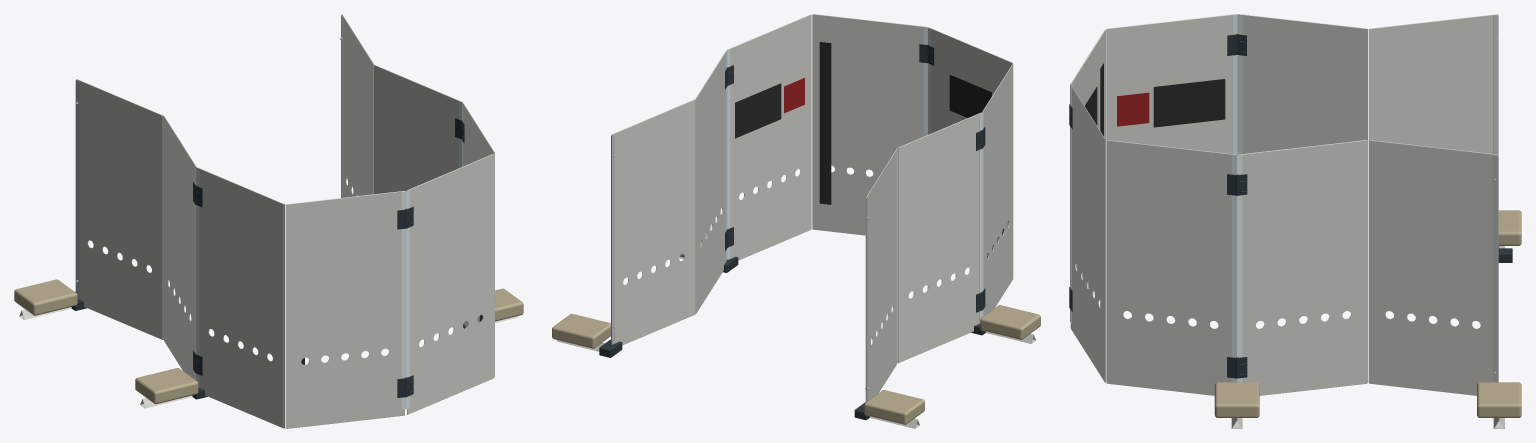
3 views of the same model, side by side, from view 1: azimuth 30°, elevation 25°; view 2: azimuth 150°, elevation 25°; view 3: azimuth 270°, elevation 25° (orthographic). The views are drawn at different scales.
Parts seen in each view (by area): view 1: P12 duo, left half head and side, P12 duo, left half side, P12 duo, right half head and side, P12 duo, right half side, Ballast bag, left end, Ballast bag, left side, Joint cover strip, centre mid, Edge stiffener channel, left end, Joint cover strip, left side mid, Ballast bag, right side; view 2: P12 duo, right half head and side, P12 duo, right half side, P12 duo, left half side, P12 duo, left half head and side, Print zone, release mark, right head, Print zone, do-not-pull words, right, Ballast bag, left side, Ballast bag, left end, Ballast bag, right end, Print zone, bed card, Edge stiffener channel, right end, Edge stiffener channel, left end (+4 smaller); view 3: P12 duo, right half side, P12 duo, right half head and side, P12 duo, left half side, P12 duo, left half head and side, Print zone, do-not-pull words, left, Joint cover strip, right side mid, Ballast bag, right side, Ballast bag, right end, Edge stiffener channel, right end, Joint cover strip, left side mid, Print zone, prohibition sign, left, Ballast bag, left end (+3 smaller).
Part boxes in pixels (x1,y1,x2,y2): P12 duo, left half head and side: (197,167,404,428); P12 duo, left half side: (76,79,196,379); P12 duo, right half head and side: (407,102,494,414); P12 duo, right half side: (341,14,461,197); Ballast bag, left end: (14,279,77,315); Ballast bag, left side: (135,368,198,404); Joint cover strip, centre mid: (401,227,409,377); Edge stiffener channel, left end: (75,80,79,298); Joint cover strip, left side mid: (194,204,199,354); Ballast bag, right side: (495,288,523,321); P12 duo, right half head and side: (727,14,926,260); P12 duo, right half side: (611,50,726,345); P12 duo, left half side: (866,113,981,400); P12 duo, left half head and side: (929,27,1013,315); Print zone, release mark, right head: (819,42,831,204); Print zone, do-not-pull words, right: (735,83,781,138); Ballast bag, left side: (980,305,1040,339); Ballast bag, left end: (864,390,924,424); Ballast bag, right end: (552,313,610,348); Print zone, bed card: (949,75,991,117); Edge stiffener channel, right end: (611,134,615,344); Edge stiffener channel, left end: (865,196,868,402); P12 duo, right half side: (1238,140,1497,395); P12 duo, right half head and side: (1070,85,1235,395); P12 duo, left half side: (1238,14,1497,153); P12 duo, left half head and side: (1070,14,1235,291); Print zone, do-not-pull words, left: (1153,79,1225,127); Joint cover strip, right side mid: (1232,195,1242,357); Ballast bag, right side: (1214,382,1259,417); Ballast bag, right end: (1477,382,1521,417); Edge stiffener channel, right end: (1492,155,1498,382); Joint cover strip, left side mid: (1232,55,1242,154); Print zone, prohibition sign, left: (1117,92,1149,126); Ballast bag, left end: (1498,210,1521,245).
Size of the model in its own units: 2.09 by 1.21 by 2.02.
